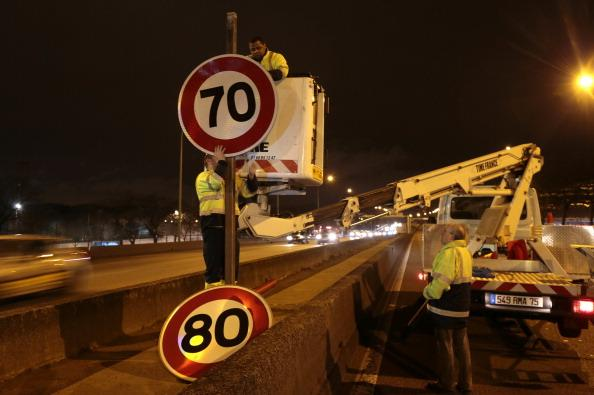Speed_limit_70km: (176, 55, 276, 157)
